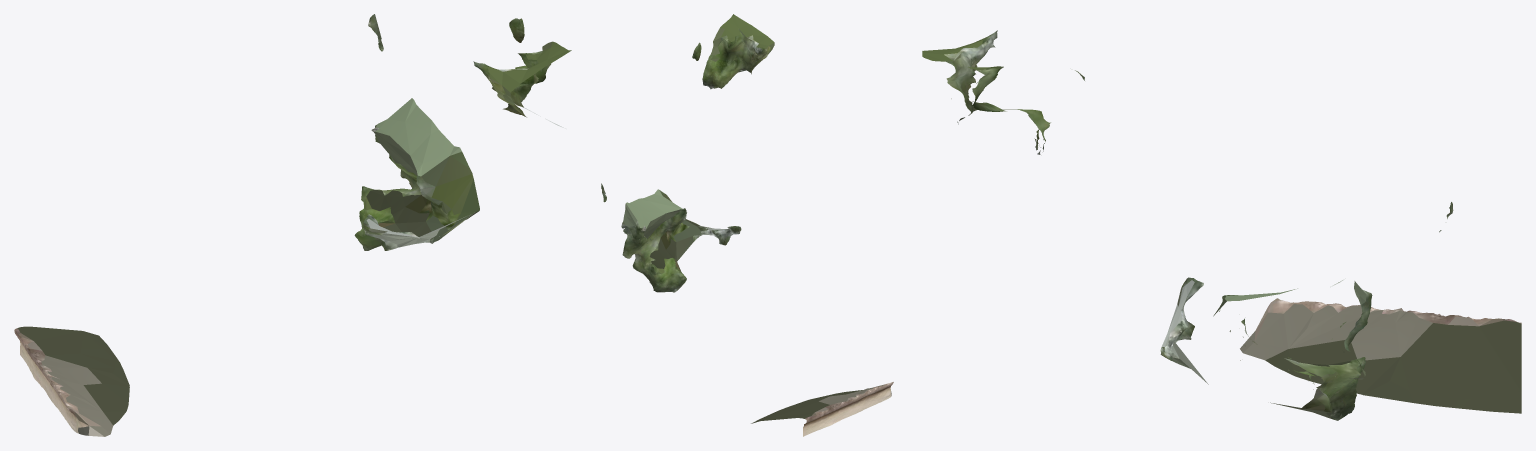
The picture shows the model from 3 angles, left to right: view 1: azimuth 30°, elevation 25°; view 2: azimuth 150°, elevation 25°; view 3: azimuth 270°, elevation 25°; orthographic projection. The views are drawn at different scales.
Size of the model in its own units: 3.78 by 3.76 by 3.93.
Materials: 1 (1 with a texture image).
